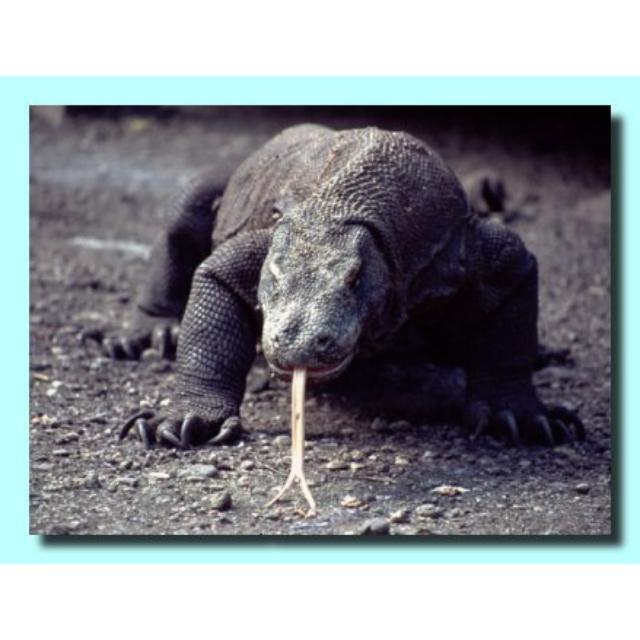KomodoDragon: (72, 120, 590, 522)
